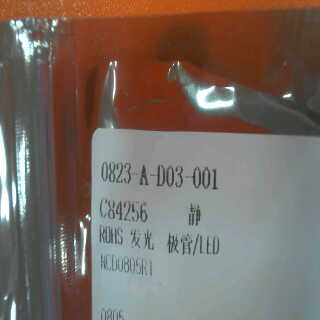LED: (124, 225, 224, 257)
